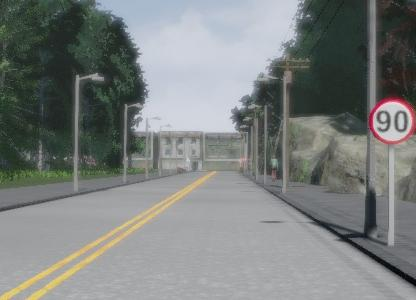Speed_90: (367, 96, 416, 147)
